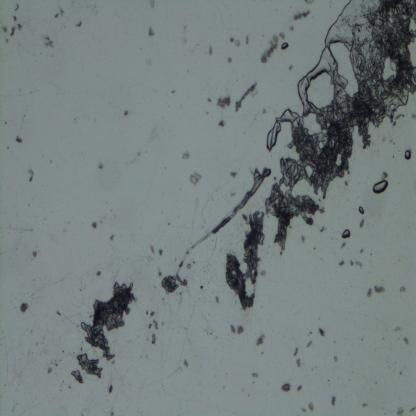Air bubble: (297, 2, 354, 100), (372, 180, 389, 195), (341, 228, 352, 240), (403, 149, 412, 161), (280, 41, 290, 50), (359, 206, 366, 216)
Background material: (269, 1, 416, 251), (79, 278, 136, 361), (224, 211, 267, 311), (261, 32, 285, 65), (234, 82, 259, 113), (74, 353, 102, 380), (46, 351, 64, 374), (160, 275, 179, 295), (216, 95, 232, 111), (187, 171, 204, 186), (42, 32, 55, 50), (70, 370, 84, 386), (254, 332, 268, 347), (292, 9, 311, 20), (230, 323, 244, 336), (25, 167, 36, 183), (350, 258, 364, 270), (18, 300, 30, 314), (374, 283, 386, 295), (228, 37, 241, 48), (52, 7, 65, 18), (147, 24, 156, 38), (182, 150, 192, 162), (147, 321, 159, 331), (330, 394, 338, 408), (317, 326, 326, 338), (218, 119, 228, 129), (207, 44, 214, 58), (358, 217, 366, 229), (230, 168, 238, 180), (402, 335, 410, 347), (282, 382, 290, 393), (244, 32, 250, 46), (366, 286, 373, 298), (150, 332, 156, 346), (300, 233, 307, 245), (15, 136, 24, 145), (396, 405, 404, 415), (251, 370, 259, 380), (74, 20, 84, 28), (13, 1, 20, 12), (295, 358, 302, 369), (306, 338, 312, 350), (10, 25, 16, 37), (0, 24, 8, 33), (332, 354, 339, 364), (308, 402, 315, 412), (293, 346, 299, 357), (149, 0, 155, 11), (98, 159, 104, 170), (206, 97, 214, 105), (337, 259, 345, 267), (95, 269, 102, 278), (16, 23, 23, 32), (184, 360, 190, 370), (362, 401, 369, 409), (300, 406, 307, 414), (340, 242, 348, 249), (158, 247, 164, 256), (296, 385, 303, 392), (226, 56, 233, 63), (400, 285, 406, 293), (262, 105, 268, 113), (92, 222, 98, 230), (410, 406, 416, 414), (123, 109, 129, 117), (32, 251, 38, 259), (108, 384, 113, 393), (150, 245, 155, 254), (12, 14, 17, 23), (151, 310, 156, 317), (110, 236, 115, 242), (289, 26, 294, 32)
Cotton: (176, 169, 266, 284)
